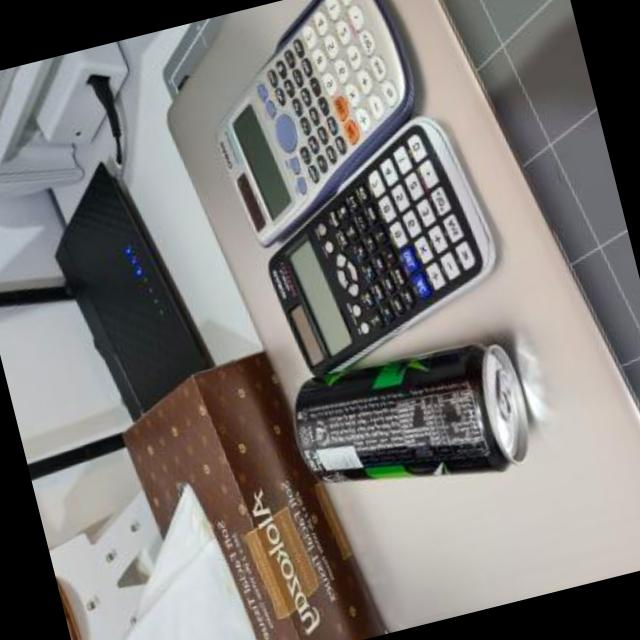cardboard paper: (123, 487, 251, 640)
metal: (294, 342, 526, 480)
